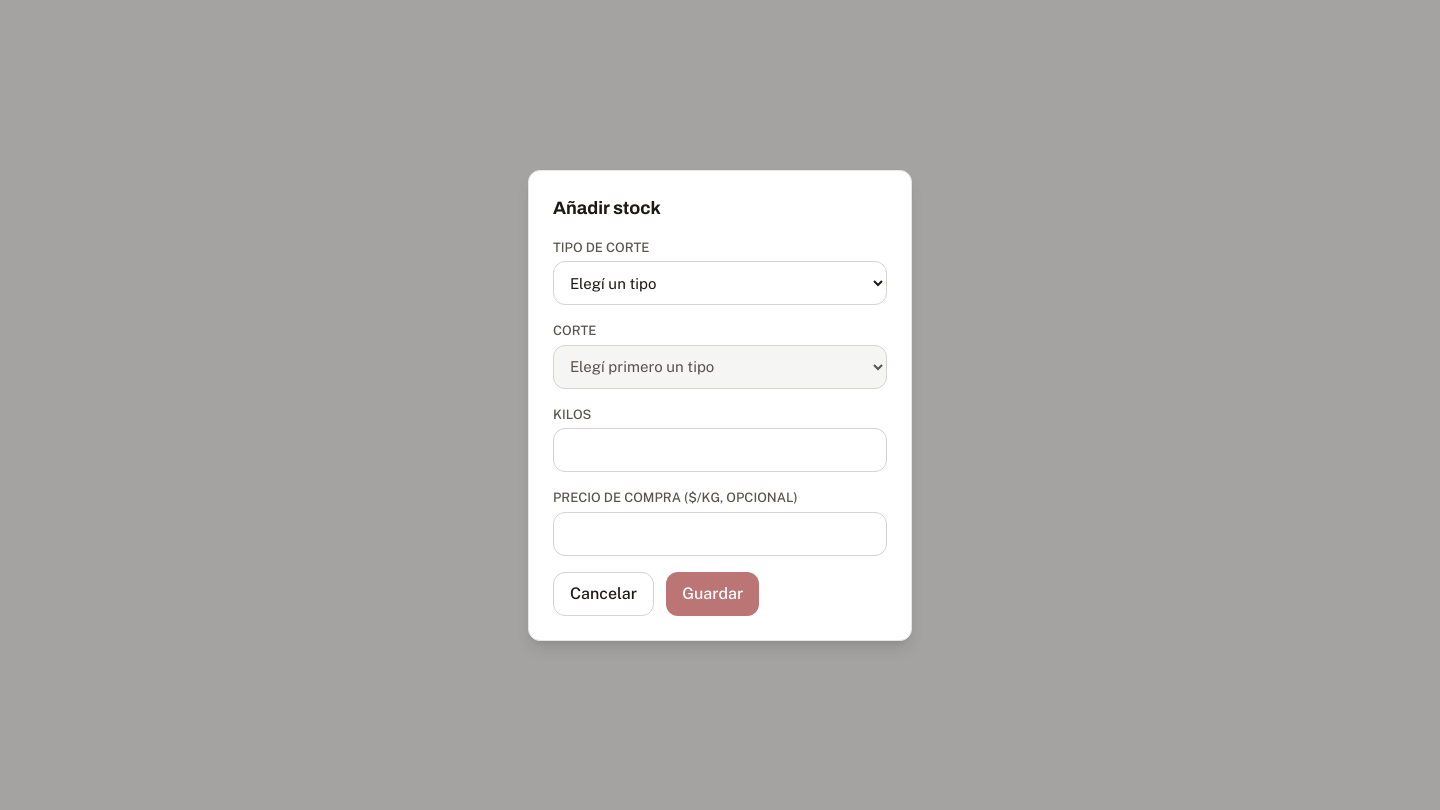
Test: ModalAnadirStock › el tipo "Cerdo" solo lista cortes de Cerdo activos (ni Achuras ni Vacuno ni inactivos)
Select "Cerdo" in the dropdown labelled "Tipo de corte" at [720, 283], box left=553, top=261, right=887, bottom=305
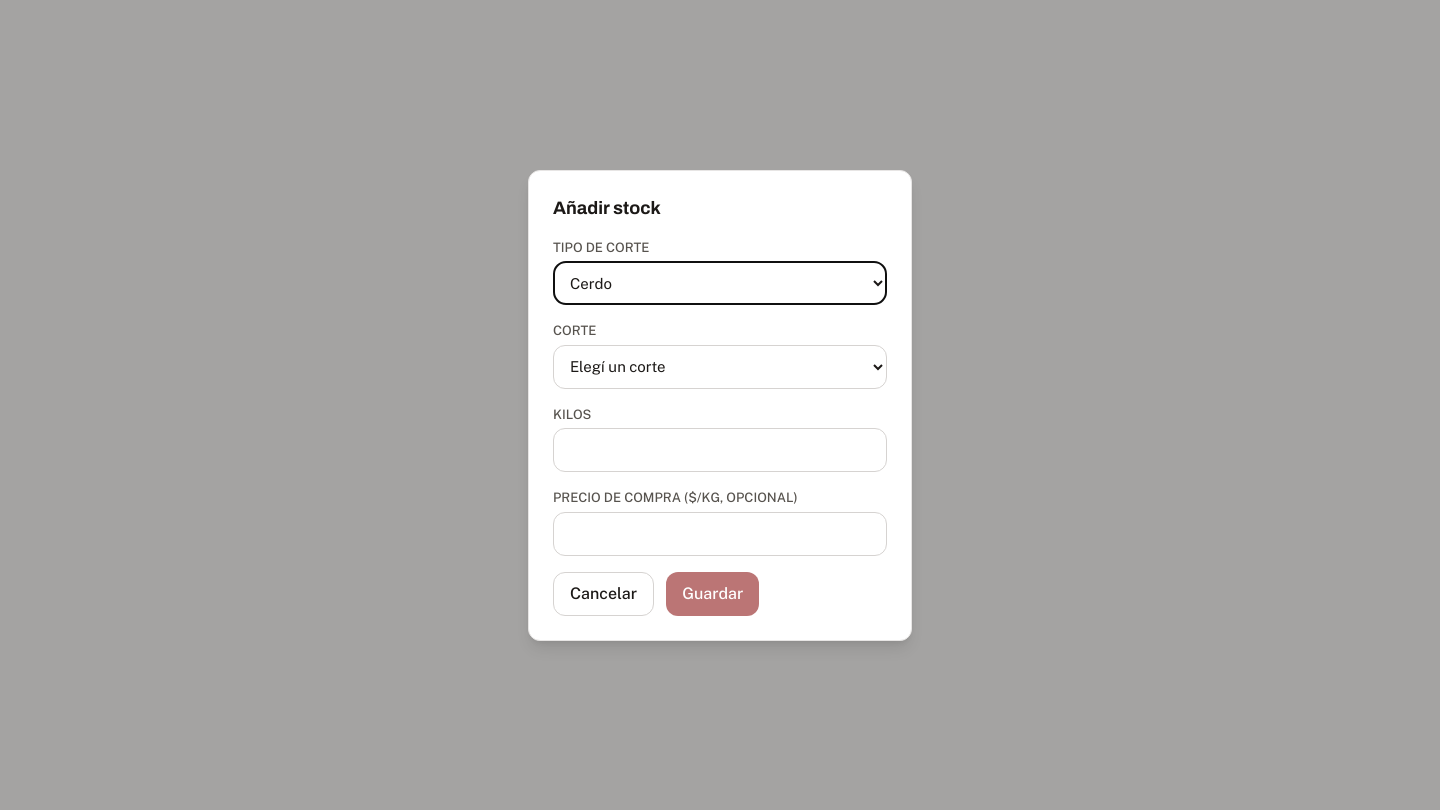
Check: the dropdown labelled "Corte" is enabled, box left=553, top=344, right=887, bottom=388
